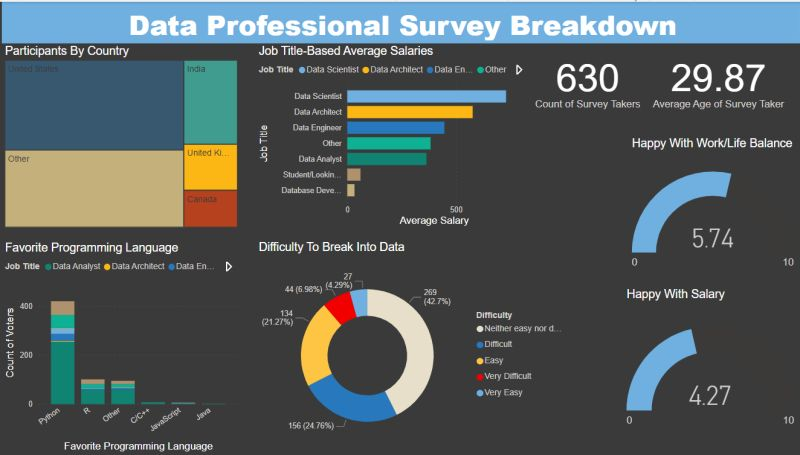

What the dashboard file says about the page in this screenshot:
{"tool":"powerbi","page":{"name":"Page 1","canvas":[1280,720],"ordinal":0},"visuals":[{"type":"textbox","box":[9.6,0,1271,65.8],"z":0},{"type":"card","fields":{"Values":["Count(Data Professional Survey.Unique ID)"]},"box":[819.5,66.5,226,114.1],"z":1000},{"type":"card","fields":{"Values":["Avg(Data Professional Survey.Q10 - Current Age)"]},"box":[1015,66.7,247.6,114.1],"z":2000},{"type":"barChart","title":"Job Title-Based Average Salaries","fields":{"Category":["Data Professional Survey.Q1 - Which Title Best Fits your Current Role?.1"],"Y":["Avg(Data Professional Survey.Average Salary)"],"Series":["Data Professional Survey.Q1 - Which Title Best Fits your Current Role?.1"]},"box":[409.2,66.7,434.6,292.4],"z":3000},{"type":"columnChart","title":"Favorite Programming Language","fields":{"Category":["Data Professional Survey.Q5 - Favorite Programming Language.1"],"Y":["CountNonNull(Data Professional Survey.Unique ID)"],"Series":["Data Professional Survey.Q1 - Which Title Best Fits your Current Role?.1"]},"box":[9.7,376.7,376.7,337.2],"z":4000},{"type":"treemap","title":" Participants By Country","fields":{"Group":["Data Professional Survey.Q11 - Which Country do you live in?.1"],"Values":["CountNonNull(Data Professional Survey.Q11 - Which Country do you live in?.1)"]},"box":[9.2,66.3,376.4,293.5],"z":5000},{"type":"gauge","title":"Happy With Work/Life Balance","fields":{"Y":["Avg(Data Professional Survey.Q6 - How Happy are you in your Current Position with the following? (Work/Life Balance))"],"MinValue":["Min(Data Professional Survey.Q6 - How Happy are you in your Current Position with the following? (Work/Life Balance))1"],"MaxValue":["Max(Data Professional Survey.Q6 - How Happy are you in your Current Position with the following? (Work/Life Balance))2"]},"box":[997.5,213.4,265.2,244.1],"z":6000},{"type":"gauge","title":"Happy With Salary","fields":{"Y":["Avg(Data Professional Survey.Q6 - How Happy are you in your Current Position with the following? (Salary))"],"MinValue":["Min(Data Professional Survey.Q6 - How Happy are you in your Current Position with the following? (Salary))"],"MaxValue":["Max(Data Professional Survey.Q6 - How Happy are you in your Current Position with the following? (Salary))"]},"box":[988.7,451.3,274,262.5],"z":7000},{"type":"donutChart","title":"Difficulty To Break Into Data ","fields":{"Category":["Data Professional Survey.Q7 - How difficult was it for you to break into Data?"],"Y":["CountNonNull(Data Professional Survey.Q7 - How difficult was it for you to break into Data?)"]},"box":[408.8,376.3,500.5,343.7],"z":8000}]}

Visuals, with their boxes in screenshot pixels (x1, y1, x2, y2), scaled from the page's 1280x720 canvas onto the 800x455 screenshot:
textbox: {"left": 6, "top": 0, "right": 799, "bottom": 42}
card - Count(Data Professional Survey.Unique ID): {"left": 512, "top": 42, "right": 653, "bottom": 114}
card - Avg(Data Professional Survey.Q10 - Current Age): {"left": 634, "top": 42, "right": 789, "bottom": 114}
"Job Title-Based Average Salaries" barChart: {"left": 256, "top": 42, "right": 527, "bottom": 227}
"Favorite Programming Language" columnChart: {"left": 6, "top": 238, "right": 242, "bottom": 451}
" Participants By Country" treemap: {"left": 6, "top": 42, "right": 241, "bottom": 227}
"Happy With Work/Life Balance" gauge: {"left": 623, "top": 135, "right": 789, "bottom": 289}
"Happy With Salary" gauge: {"left": 618, "top": 285, "right": 789, "bottom": 451}
"Difficulty To Break Into Data " donutChart: {"left": 256, "top": 238, "right": 568, "bottom": 454}
